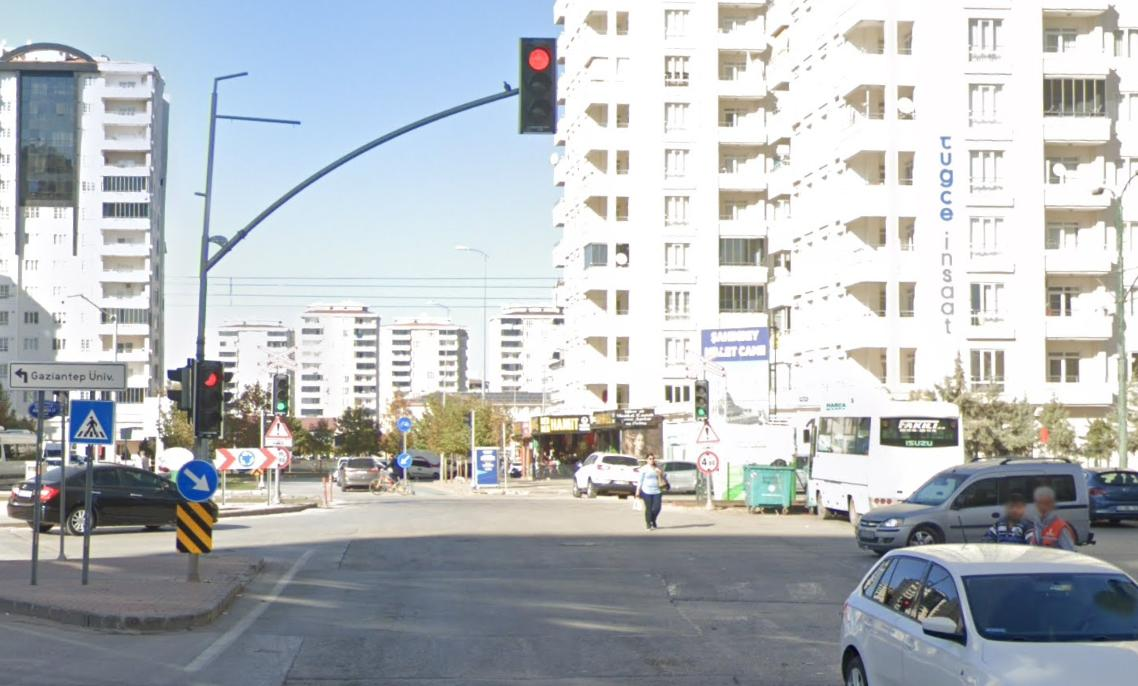greenlight: (272, 375, 288, 414), (695, 379, 709, 420)
redlight: (523, 35, 557, 132), (194, 361, 224, 432)
